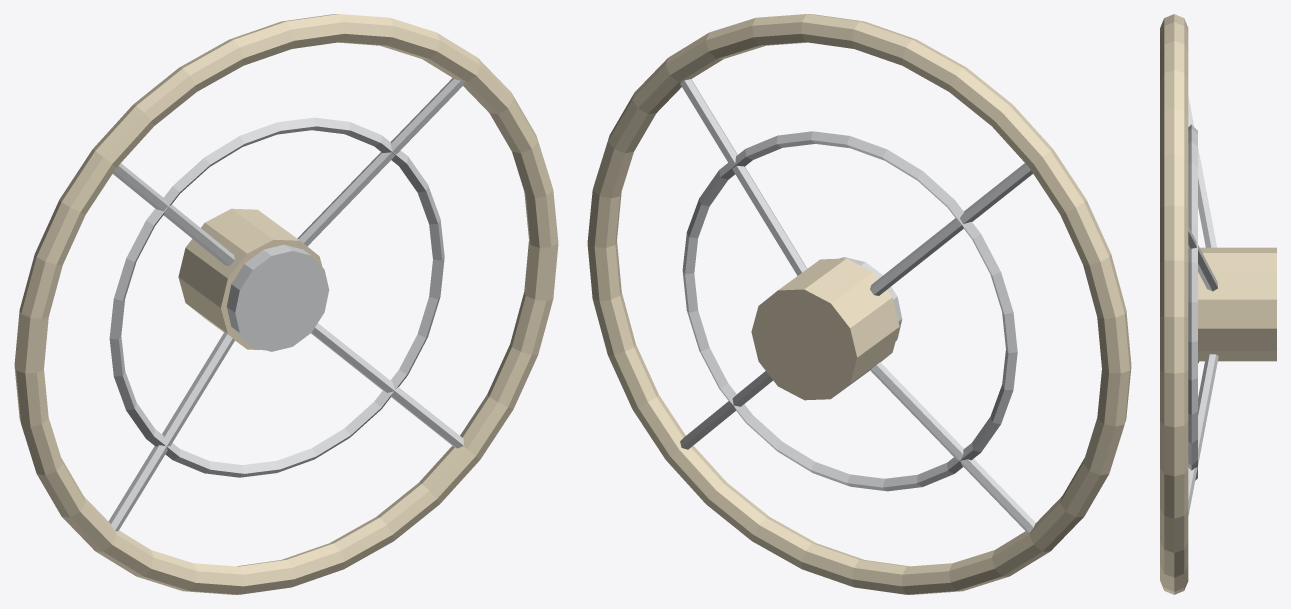
Rendered from wheel_bakelite.glb.
3 views of the same model, side by side, from view 1: azimuth 30°, elevation 25°; view 2: azimuth 150°, elevation 25°; view 3: azimuth 270°, elevation 25° (orthographic). The views are drawn at different scales.
Visible parts, largest first — view 1: SteeringWheel; view 2: SteeringWheel; view 3: SteeringWheel.
Boxes of the visible parts, <box> form: SteeringWheel: <box>14,14,558,594</box>; SteeringWheel: <box>587,14,1131,594</box>; SteeringWheel: <box>1160,14,1276,594</box>.
Size of the model in its own units: 0.368 by 0.368 by 0.074.
